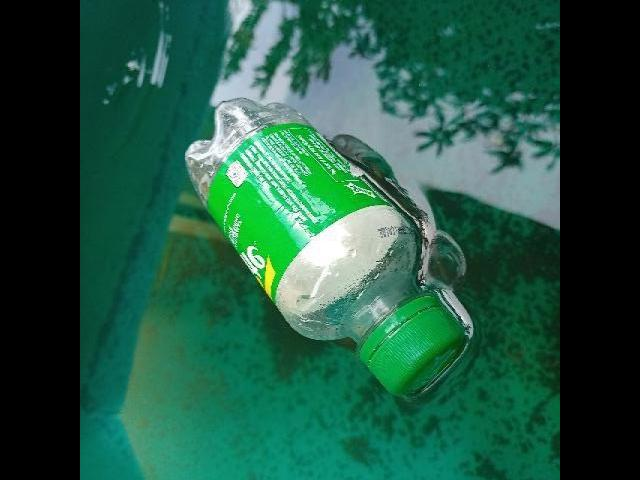Bottle: (182, 92, 478, 400)
